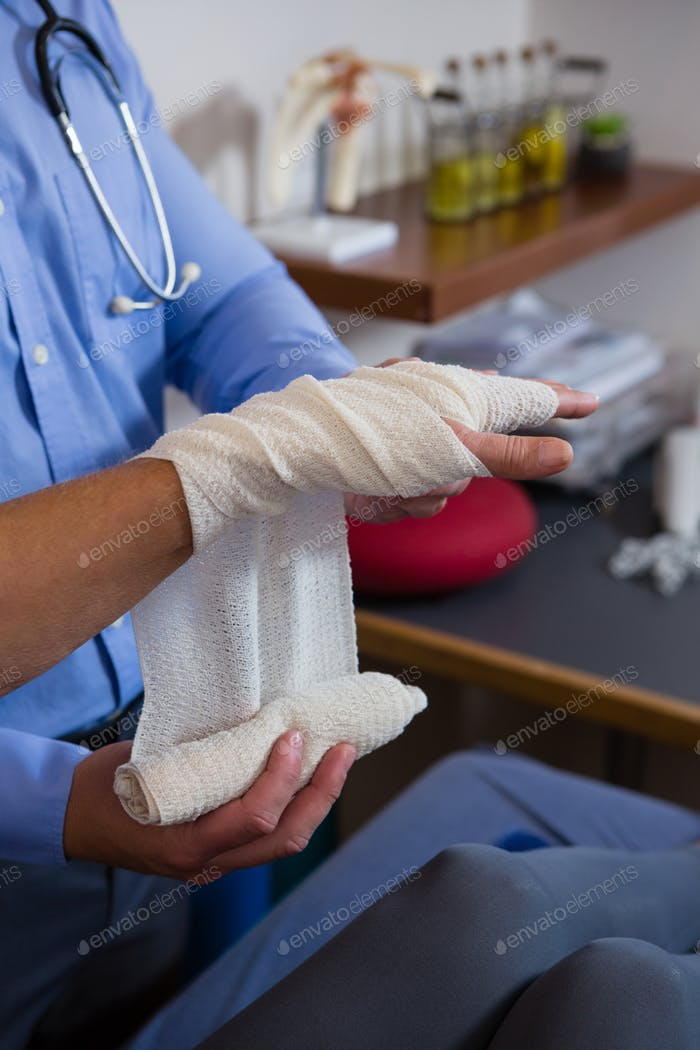injured: (52, 317, 617, 812)
